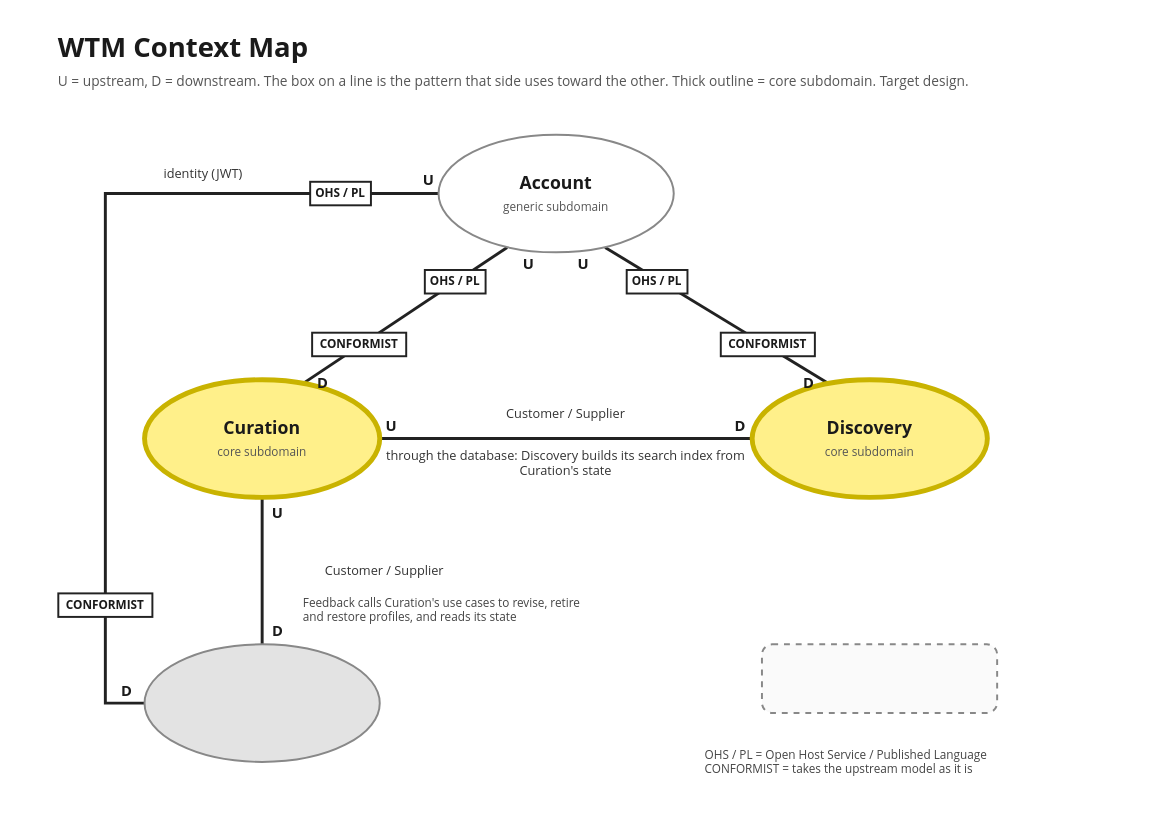
Some shapes in this 1151 by 817 pixel diagram are drawn without their labels. Here are the shapes that lost their labels. From the top down, the box of each, then its label:
(760, 643, 998, 713): Shared Kernel TemplateId, UserId kept as small as possible
(143, 643, 380, 762): Feedback supporting subdomain
